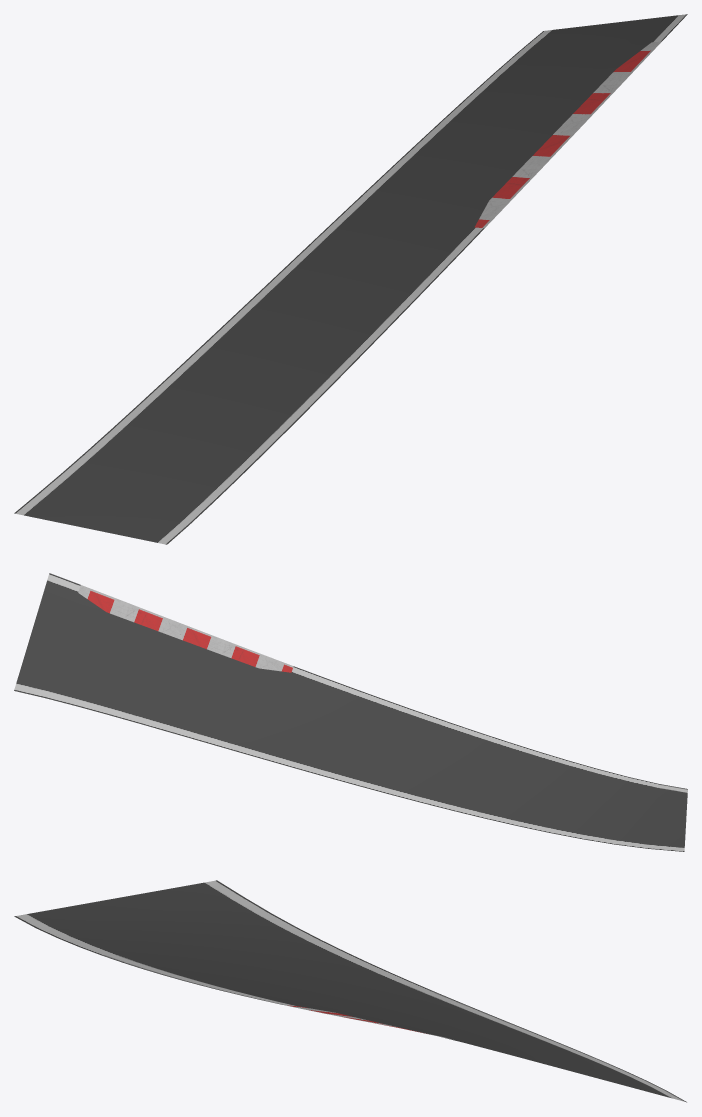
File: sm_road.008.fbx
The picture shows the model from 3 angles, top to bottom: view 1: azimuth 30°, elevation 25°; view 2: azimuth 150°, elevation 25°; view 3: azimuth 270°, elevation 25°; orthographic projection. The views are drawn at different scales.
Parts seen in each view (by area): view 1: sm_road.016; view 2: sm_road.016; view 3: sm_road.016.
Boxes of the visible parts, box(x1,y1,x2,y2) form: sm_road.016: box(14, 14, 687, 544); sm_road.016: box(14, 573, 687, 851); sm_road.016: box(14, 880, 686, 1102).
Bounding box in the file's own units: 91.99 × 28.9 × 54.78.
